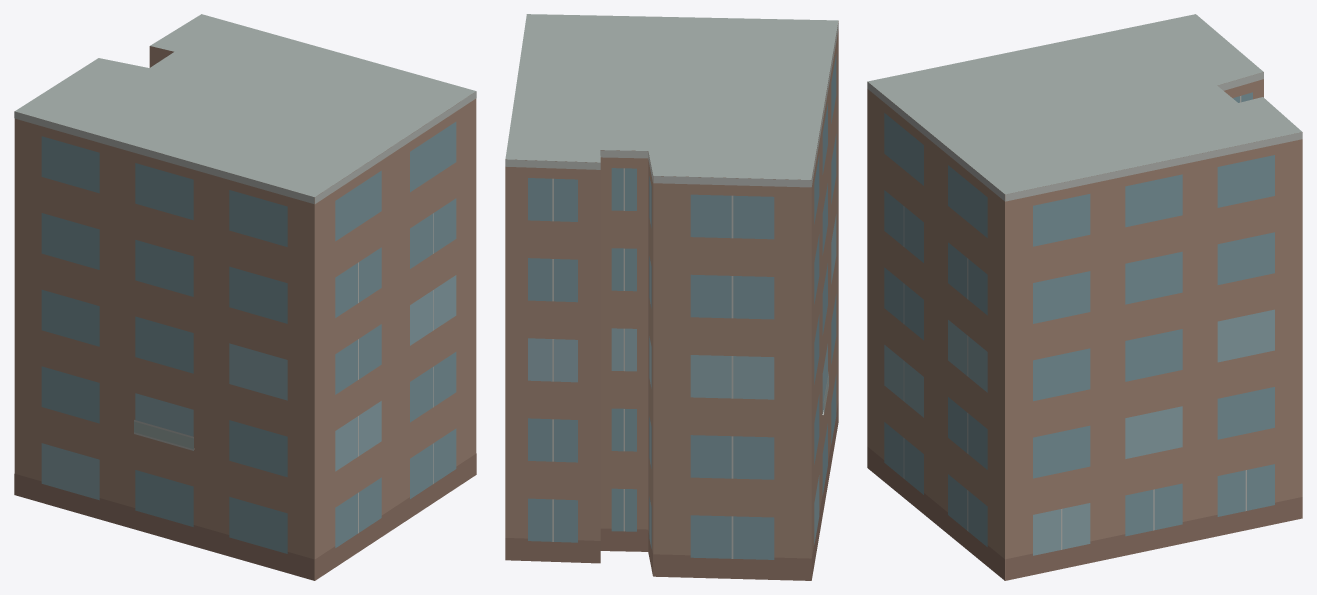
Rendered from survey-upis-32702232.glb.
The picture shows the model from 3 angles, left to right: view 1: azimuth 30°, elevation 25°; view 2: azimuth 150°, elevation 25°; view 3: azimuth 270°, elevation 25°; orthographic projection. The views are drawn at different scales.
Visible parts, largest first — view 1: survey-upis-32702232.tmp; view 2: survey-upis-32702232.tmp; view 3: survey-upis-32702232.tmp.
Part boxes in pixels (x1,y1,x2,y2): survey-upis-32702232.tmp: (14, 14, 476, 580); survey-upis-32702232.tmp: (505, 14, 838, 580); survey-upis-32702232.tmp: (867, 14, 1302, 580).
Size of the model in its own units: 13.23 by 13.2 by 13.49.
